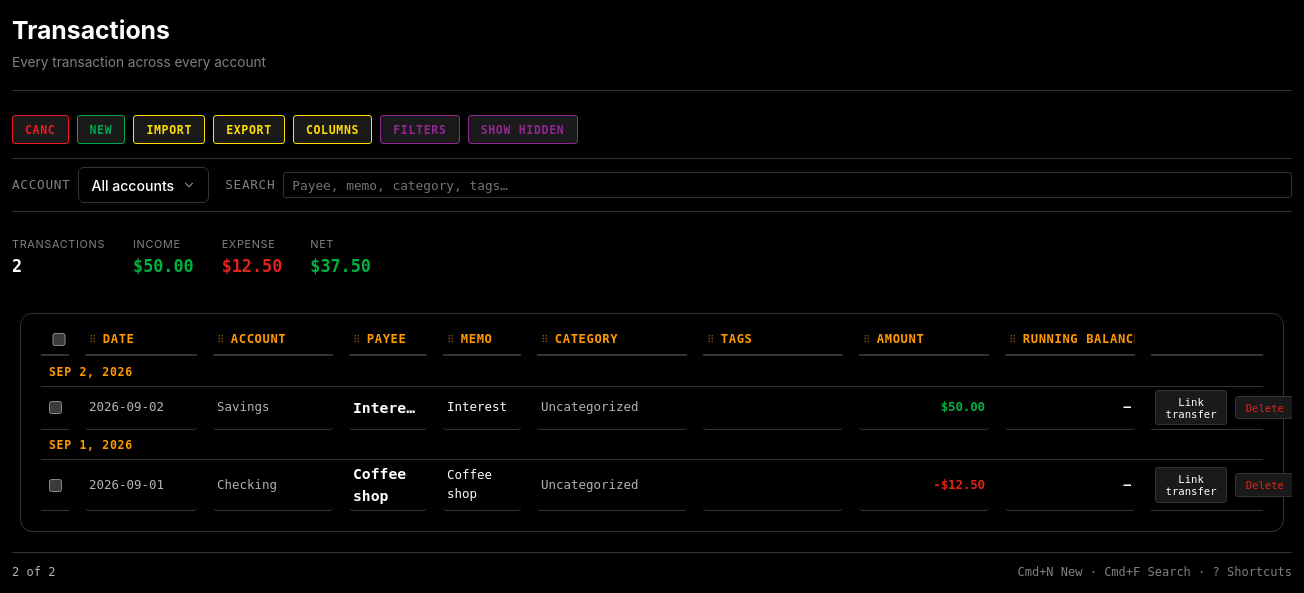
Scenario: AllTransactionsScreen Tag editing wiring (#71) › fetches list_tags and seeds the grid's Tags editor with it
The image size is (1304, 593).
Click the cell with class "cell-tags" next to "-$12.50" at coordinates (773, 486), box [703,460,843,511]
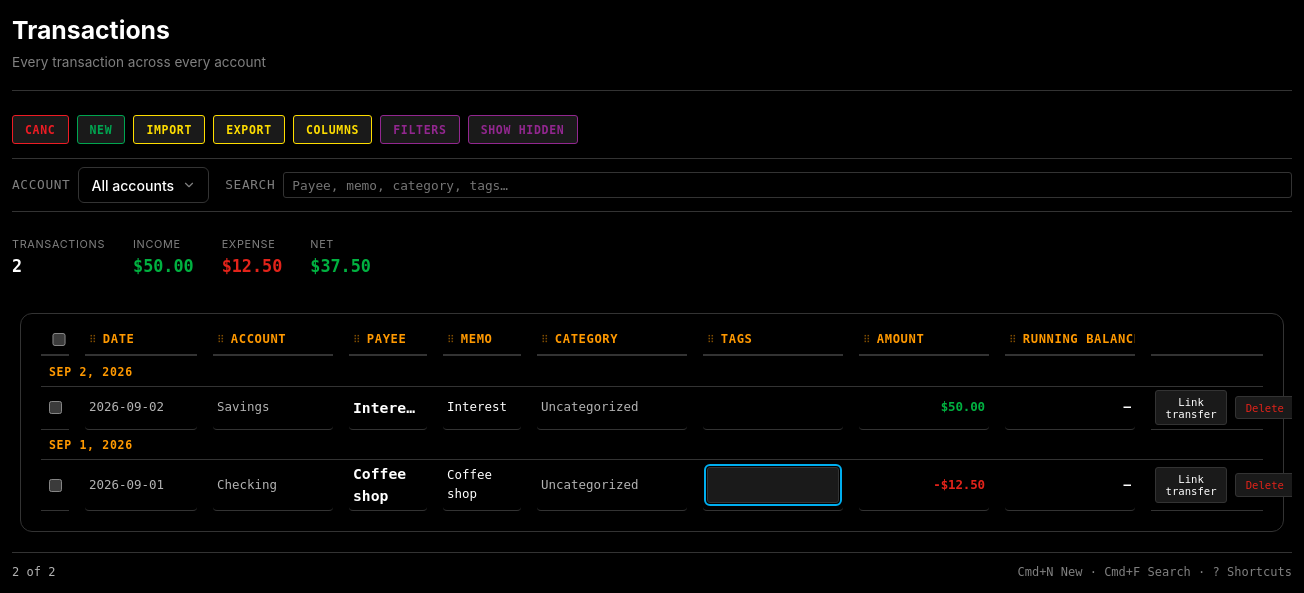
Result: the field named "Tags for Coffee shop" is shown at [707,467,839,503]
